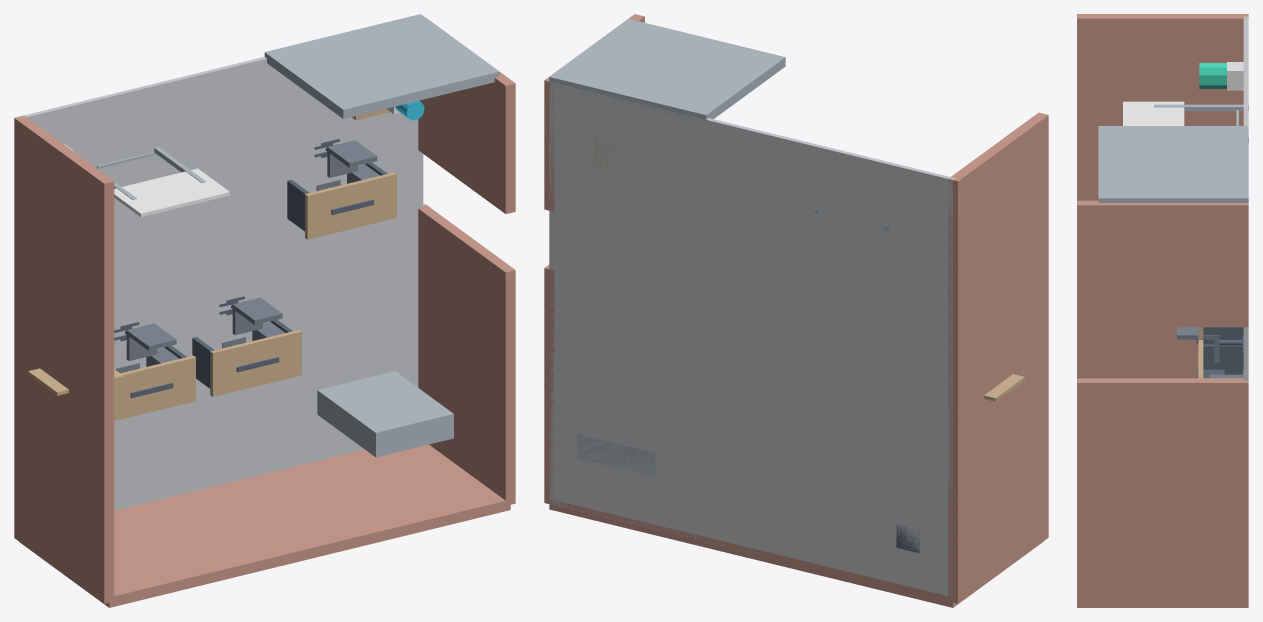
Rendered from garage_room_assembled.glb.
3 views of the same model, side by side, from view 1: azimuth 30°, elevation 25°; view 2: azimuth 150°, elevation 25°; view 3: azimuth 270°, elevation 25° (orthographic). The views are drawn at different scales.
Visible parts, largest first — view 1: floor_0, wall_left_2, wall_back_1, wall_right_a_3, garage_door_5, wall_right_b_4, frame_73, desktop_48, desktop_27, desktop_6, board_69, back_32 (+4 smaller); view 2: floor_0, wall_left_2, garage_door_5, wall_back_1, wall_right_a_3, frame_73, wall_right_b_4; view 3: wall_right_a_3, wall_left_2, wall_right_b_4, garage_door_5, board_69, leg_28, floor_0, leg_l_70, wall_back_1, pot_77, back_32, leaf_78 (+1 smaller).
Part boxes in pixels (x1=…): floor_0: x1=20, y1=57, x2=423, y2=510; wall_left_2: x1=14, y1=115, x2=114, y2=603; wall_back_1: x1=19, y1=444, x2=510, y2=607; wall_right_a_3: x1=418, y1=204, x2=515, y2=504; garage_door_5: x1=264, y1=14, x2=499, y2=118; wall_right_b_4: x1=418, y1=18, x2=515, y2=213; frame_73: x1=317, y1=371, x2=453, y2=457; desktop_48: x1=305, y1=172, x2=396, y2=239; desktop_27: x1=210, y1=329, x2=301, y2=396; desktop_6: x1=114, y1=355, x2=195, y2=420; board_69: x1=114, y1=168, x2=229, y2=216; back_32: x1=233, y1=299, x2=282, y2=324; floor_0: x1=549, y1=82, x2=955, y2=599; wall_left_2: x1=948, y1=112, x2=1048, y2=603; garage_door_5: x1=549, y1=19, x2=785, y2=123; wall_back_1: x1=549, y1=499, x2=1043, y2=607; wall_right_a_3: x1=544, y1=265, x2=554, y2=503; frame_73: x1=577, y1=434, x2=655, y2=477; wall_right_b_4: x1=544, y1=14, x2=644, y2=211; wall_right_a_3: x1=1077, y1=378, x2=1248, y2=605; wall_left_2: x1=1077, y1=14, x2=1248, y2=378; wall_right_b_4: x1=1077, y1=200, x2=1248, y2=327; garage_door_5: x1=1098, y1=126, x2=1248, y2=202; board_69: x1=1123, y1=101, x2=1184, y2=125; leg_28: x1=1203, y1=344, x2=1243, y2=374; floor_0: x1=1243, y1=16, x2=1248, y2=380; leg_l_70: x1=1154, y1=104, x2=1248, y2=111; wall_back_1: x1=1077, y1=605, x2=1248, y2=607; pot_77: x1=1227, y1=62, x2=1243, y2=90; back_32: x1=1177, y1=327, x2=1218, y2=339; leaf_78: x1=1199, y1=74, x2=1226, y2=85.
Size of the model in its own units: 7.59 by 7.37 by 2.8.
